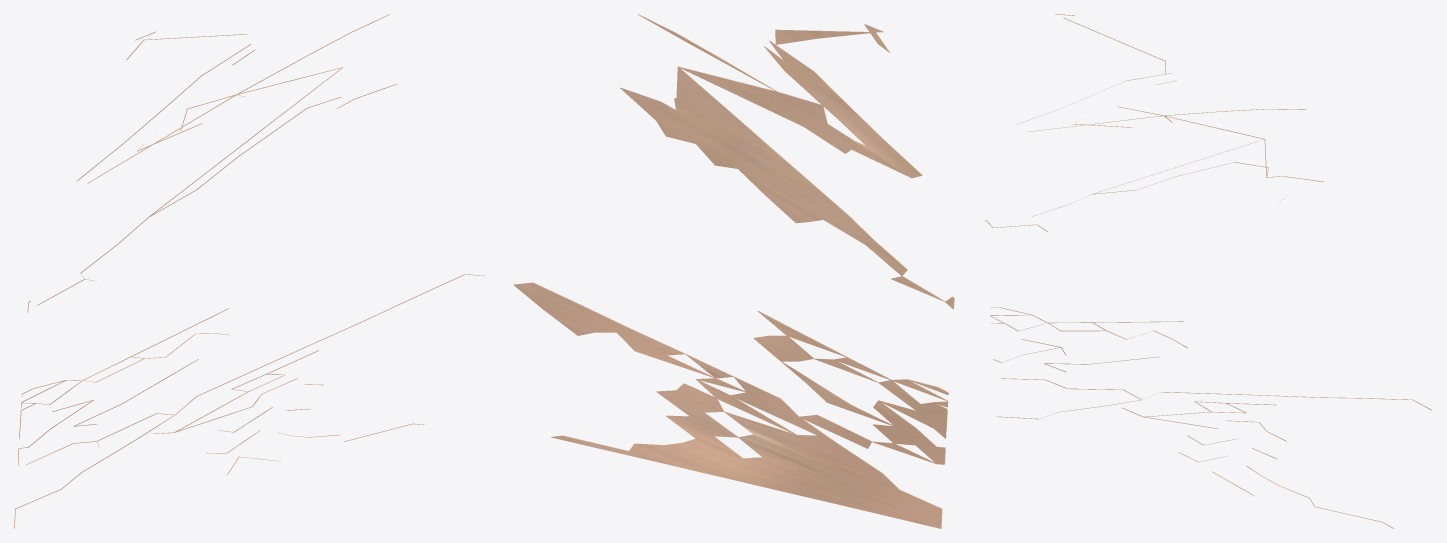
3 views of the same model, side by side, from view 1: azimuth 30°, elevation 25°; view 2: azimuth 150°, elevation 25°; view 3: azimuth 330°, elevation 25° (orthographic). The views are drawn at different scales.
Bounding box in the file's own units: 25.15 × 25.45 × 3.24.
1 material, 1 textured.
